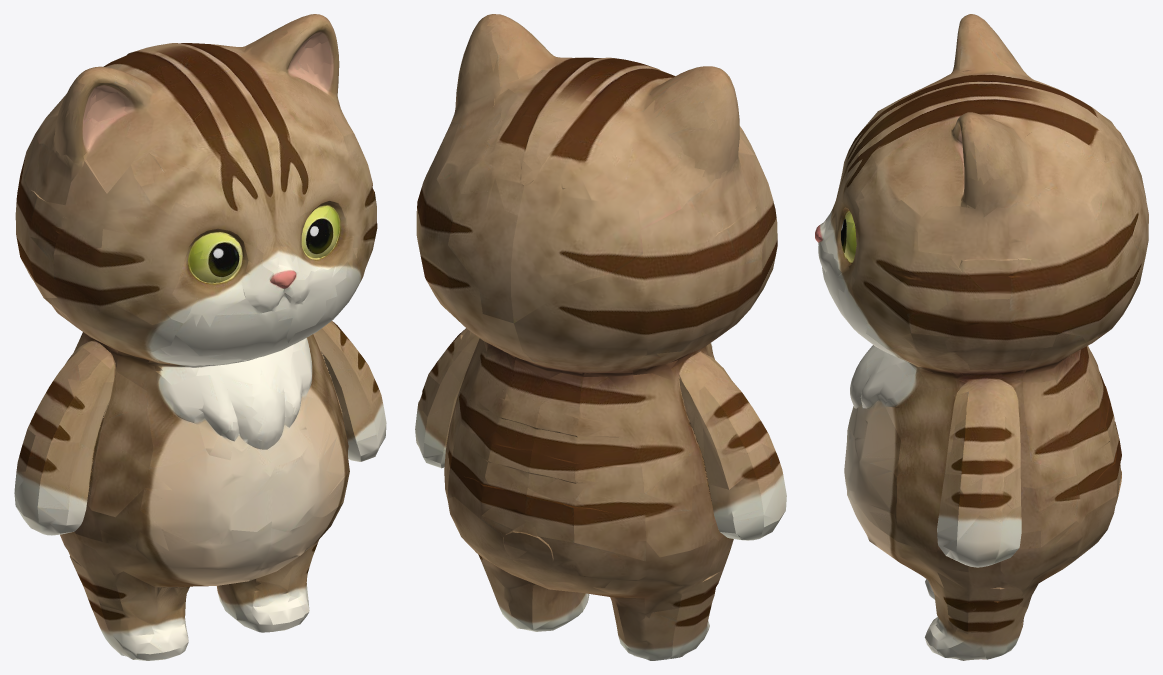
Rendered from qcat.glb.
3 views of the same model, side by side, from view 1: azimuth 30°, elevation 25°; view 2: azimuth 150°, elevation 25°; view 3: azimuth 270°, elevation 25° (orthographic). The views are drawn at different scales.
Bounding box in the file's own units: 1.2 × 1.9 × 1.03.
Materials: 1 (1 with a texture image).
